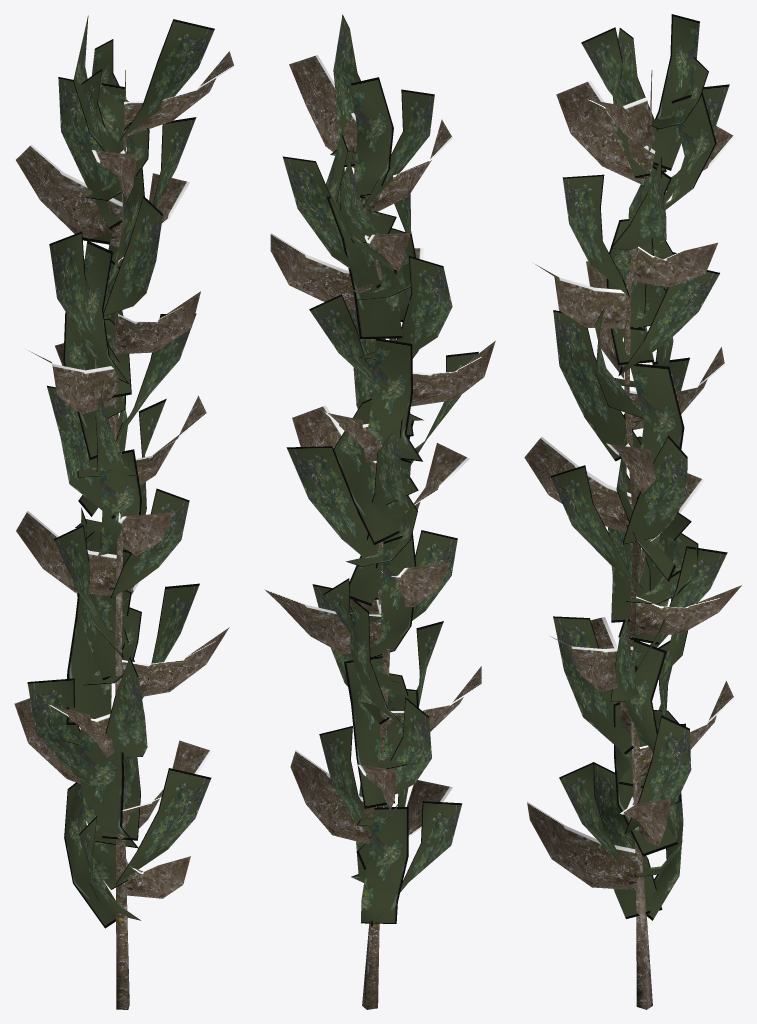
Rendered from KelpWhip.fbx.
The picture shows the model from 3 angles, left to right: view 1: azimuth 30°, elevation 25°; view 2: azimuth 150°, elevation 25°; view 3: azimuth 270°, elevation 25°; orthographic projection. The views are drawn at different scales.
Visible parts, largest first — view 1: SeaWeed06_medium; view 2: SeaWeed06_medium; view 3: SeaWeed06_medium.
Boxes of the visible parts, bbox=[...] form: SeaWeed06_medium: bbox=[14, 15, 234, 1009]; SeaWeed06_medium: bbox=[263, 14, 495, 1009]; SeaWeed06_medium: bbox=[524, 14, 741, 1009].
Bounding box in the file's own units: 4.66 × 21.76 × 4.32.
